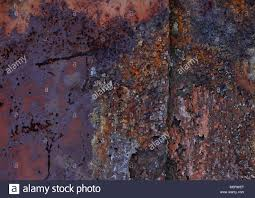rust: (3, 6, 255, 183)
